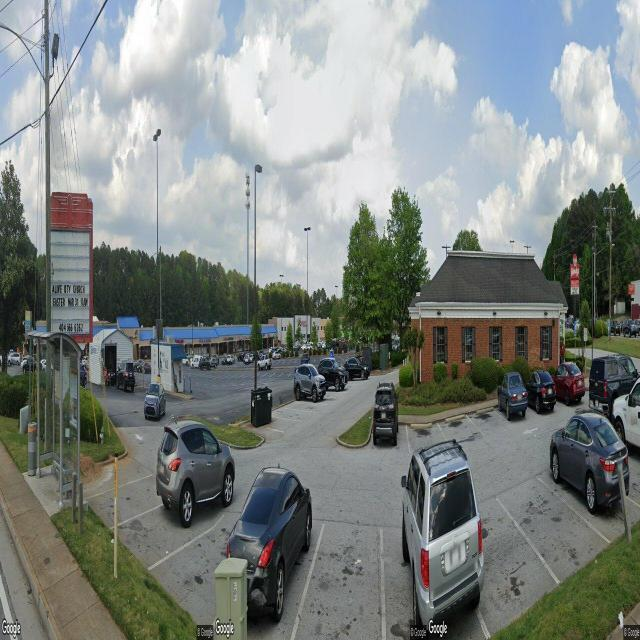seating: (53, 458, 73, 501)
shelter: (28, 329, 84, 512)
trash_can: (27, 422, 37, 478)
